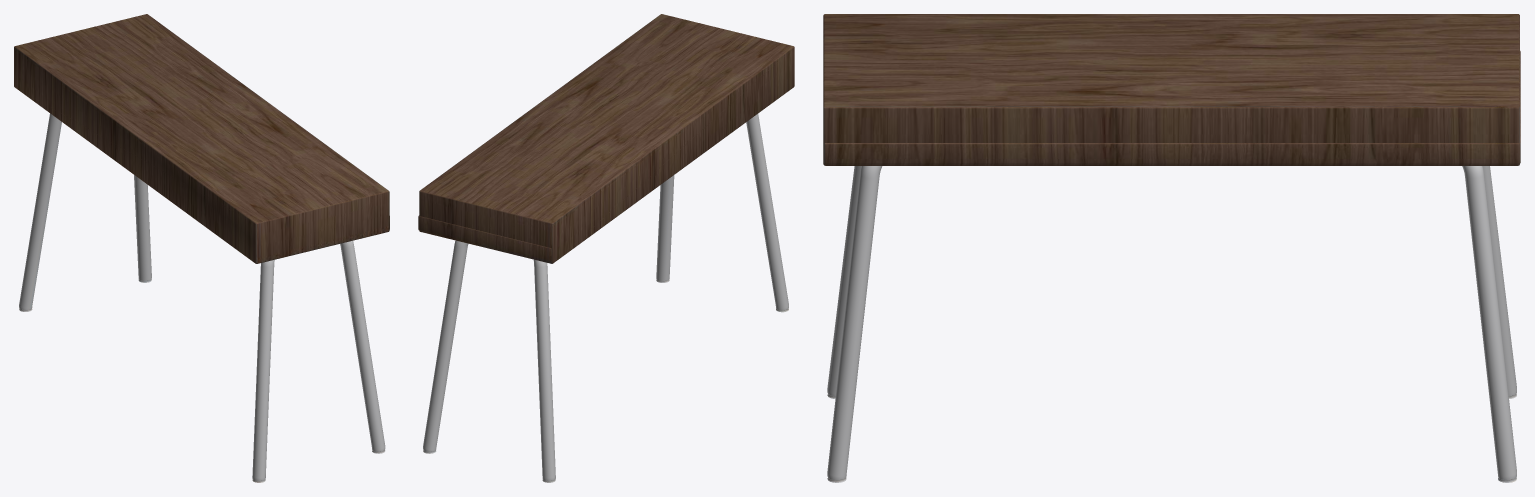
Rendered from Desk02.glb.
The picture shows the model from 3 angles, left to right: view 1: azimuth 30°, elevation 25°; view 2: azimuth 150°, elevation 25°; view 3: azimuth 270°, elevation 25°; orthographic projection. The views are drawn at different scales.
Parts seen in each view (by area): view 1: deskTopp.001, Object_2; view 2: deskTopp.001, Object_2, deskTopp; view 3: deskTopp.001, Object_2, deskTopp.
Boxes of the visible parts, left/top/right/bottom form: deskTopp.001: left=14, top=14, right=389, bottom=263; Object_2: left=19, top=113, right=385, bottom=482; deskTopp.001: left=419, top=14, right=794, bottom=263; Object_2: left=423, top=113, right=788, bottom=482; deskTopp: left=418, top=215, right=551, bottom=262; deskTopp.001: left=823, top=14, right=1519, bottom=165; Object_2: left=827, top=166, right=1516, bottom=482; deskTopp: left=824, top=51, right=1520, bottom=164.
Bounding box in the file's own units: 0.6393 × 1.19 × 2.
Materials: 1 (1 with a texture image).
